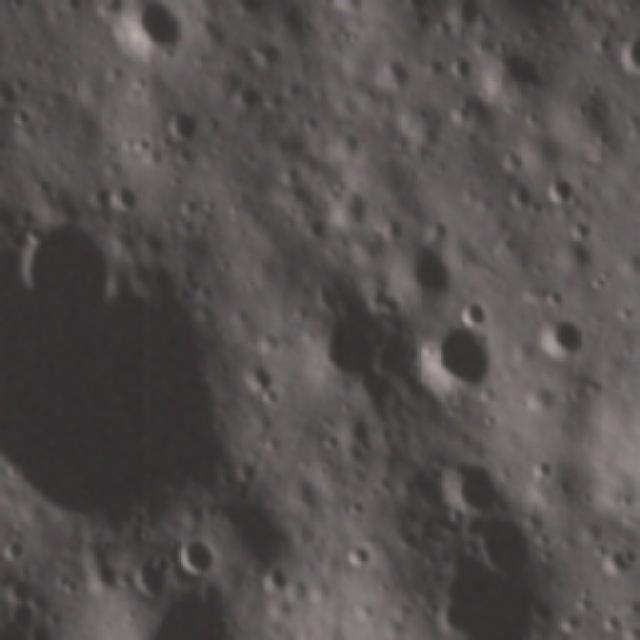crater: (0, 206, 245, 526), (302, 289, 387, 388), (430, 447, 508, 521), (422, 318, 492, 396), (470, 509, 544, 578), (394, 233, 457, 305), (116, 1, 189, 58), (491, 41, 552, 104), (531, 311, 597, 367), (365, 46, 412, 94), (164, 105, 208, 150), (128, 552, 169, 599), (172, 535, 214, 577), (542, 170, 580, 212), (333, 538, 381, 570), (0, 571, 37, 606), (447, 48, 482, 84), (618, 23, 640, 80), (560, 214, 595, 246), (0, 534, 25, 564)
